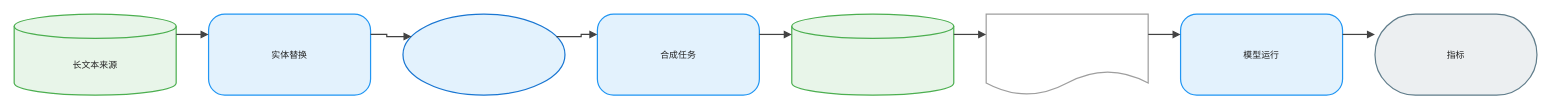
Some shapes in this 1552 by 110 pixel diagram are drawn without their labels. The centre of each missing label's shape, as x and y in pixels:
"100K+输入" belongs at [1066,54].
"12任务" belongs at [872,54].
"人工任务" belongs at [483,54].
